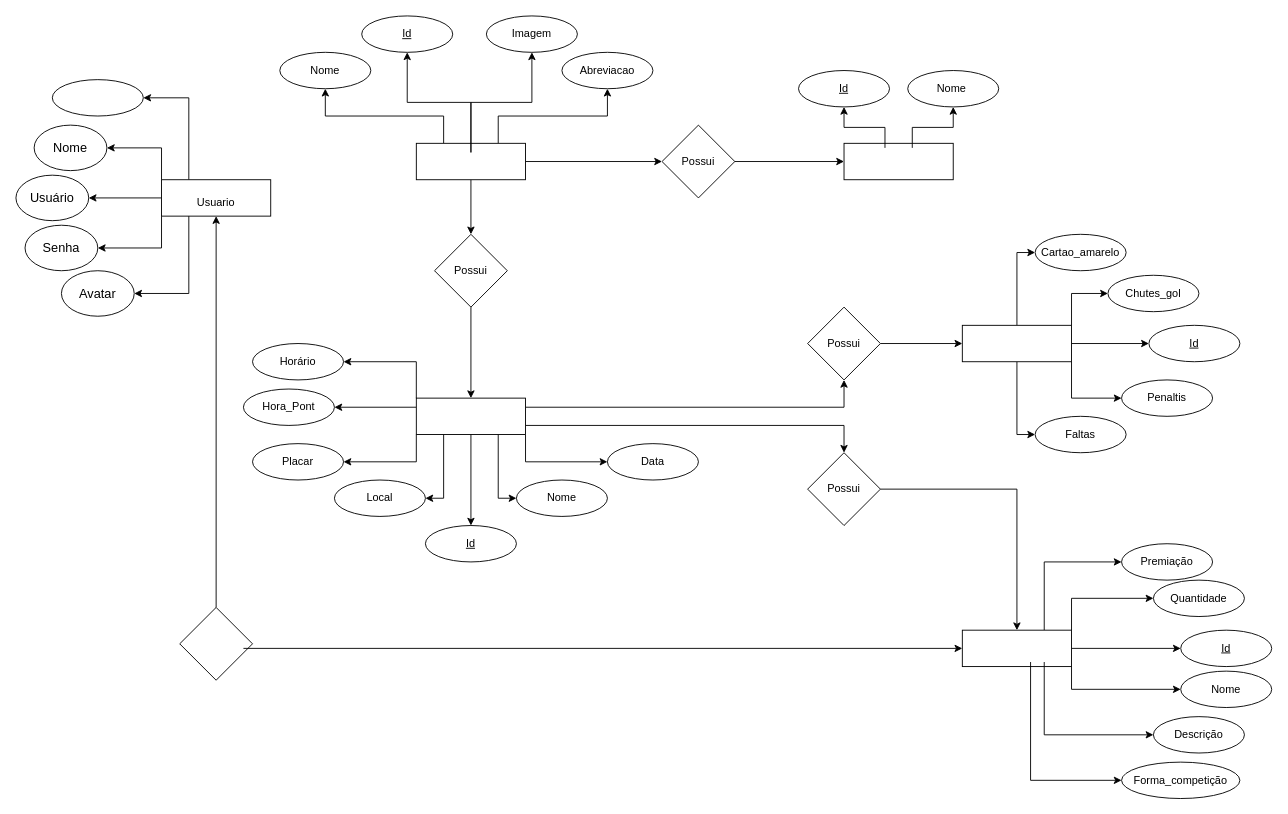
Some shapes in this 1288 by 814 pixel diagram are drawn without their labels. The box of each missing label's shape, as (x1, y1, x2, y2) in pixels:
Cadastro: (179, 607, 253, 680)
Competição: (961, 629, 1072, 667)
Email: (51, 79, 143, 116)
Estátistica: (961, 324, 1072, 362)
Jogador: (843, 142, 953, 180)
Partida: (415, 397, 526, 435)
Time: (415, 142, 526, 180)
